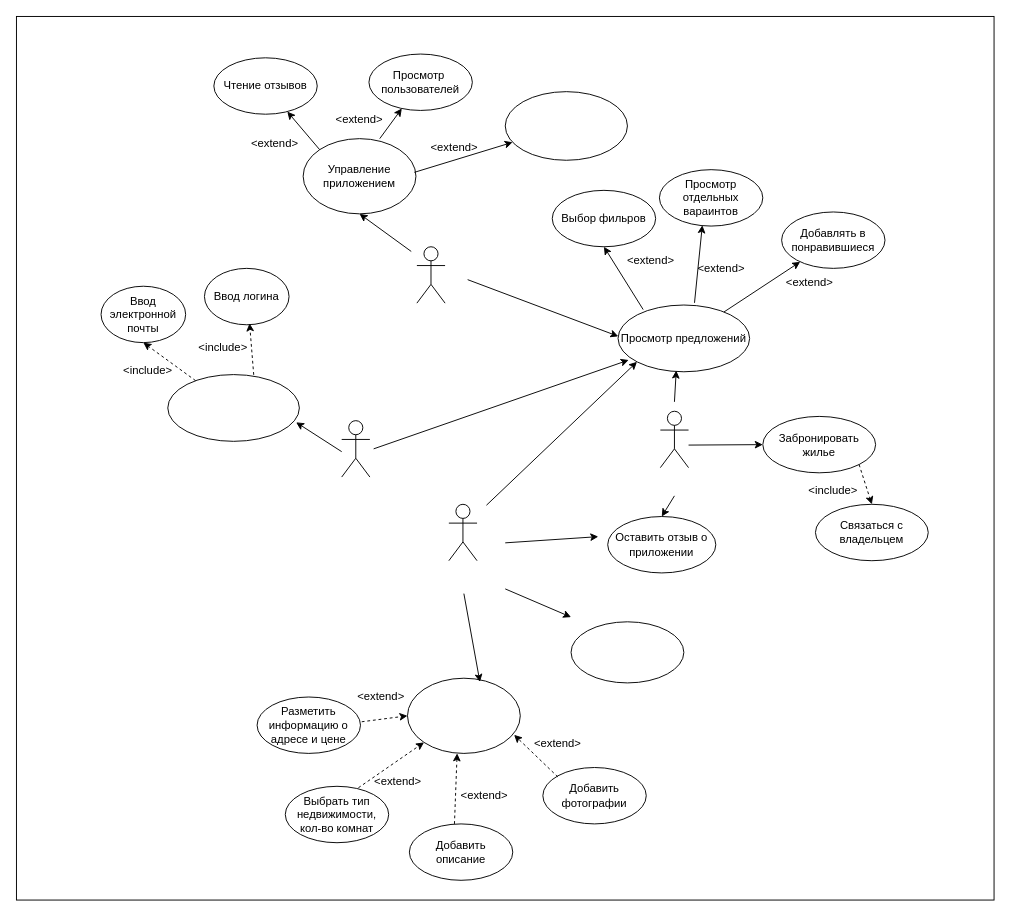
Some shapes in this 1011 by 917 pixel diagram are drawn without their labels. Each missing label, with the centre of its shape:
"Администратор" goes at (430,274).
"Владелец недвижимости" goes at (462,532).
"Гость" goes at (355,448).
"Клиент" goes at (674,439).
"Просмотр и редактирование всех предложений" goes at (565,125).
"Разместить объявление" goes at (463,715).
"Регистрация" goes at (233,407).
"Редактировать размещенные объявление" goes at (627,652).
